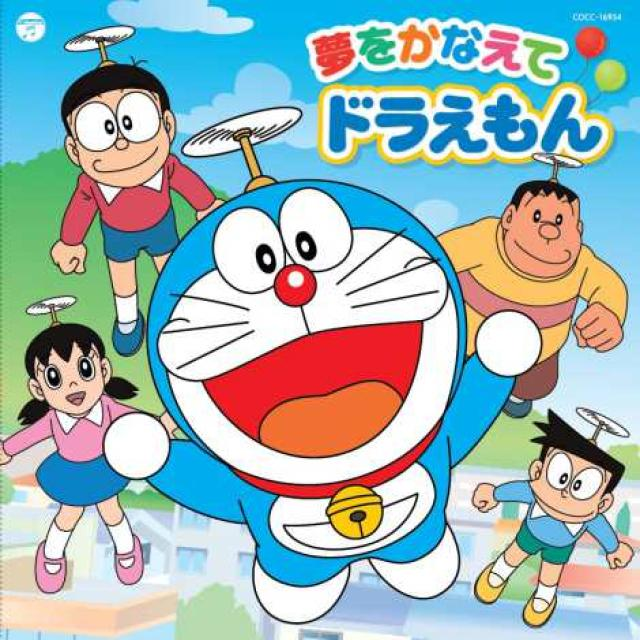doraemon: (119, 158, 498, 546)
jaian: (482, 153, 602, 300)
nobita: (49, 48, 196, 232)
shizuka: (3, 315, 150, 432)
suneo: (494, 394, 639, 541)
